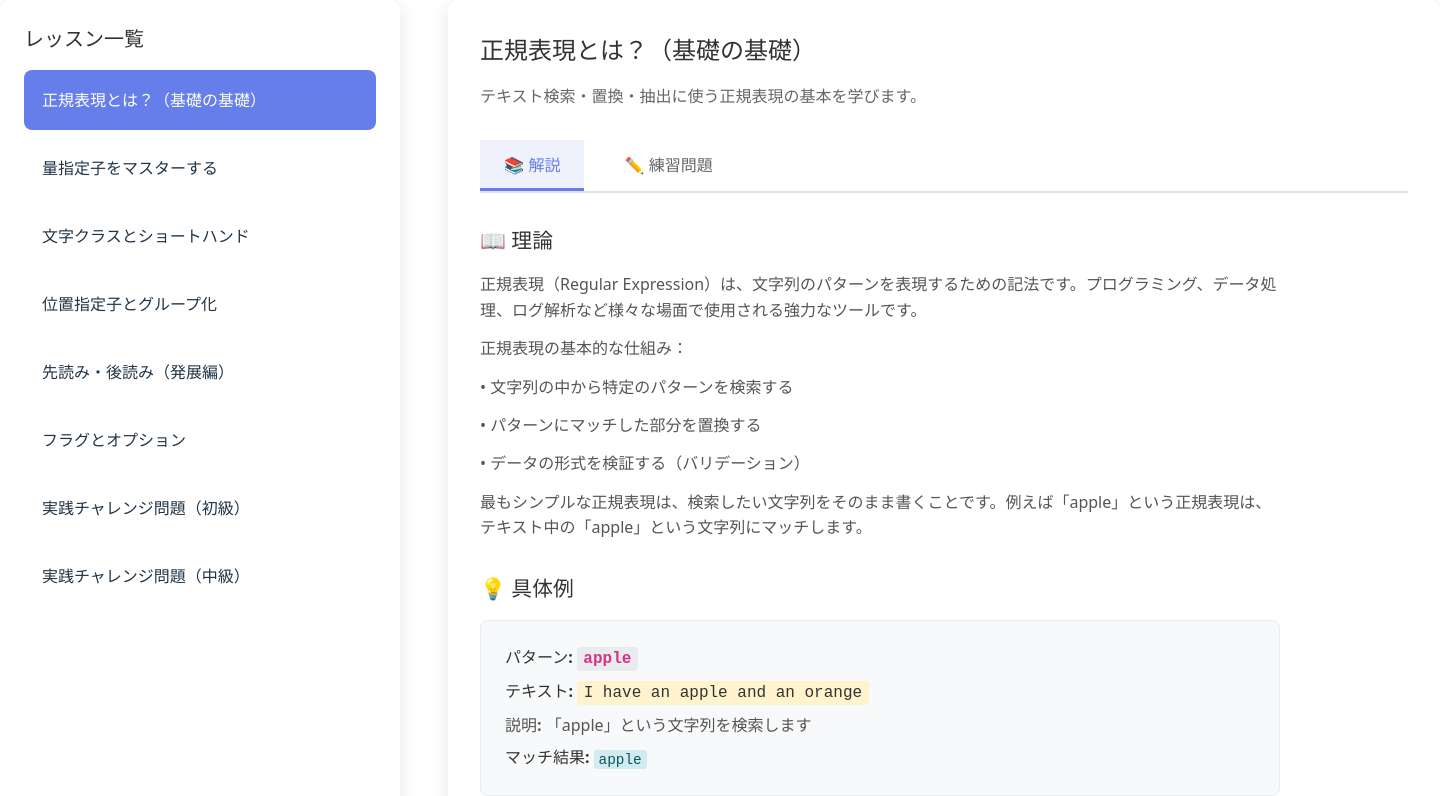
Test: LearningMode › レッスン切り替え › 異なるレッスンをクリックすると切り替わる
The width and height of the screenshot is (1440, 796).
Click the text "量指定子をマスターする".
click(130, 168)  # box [42,156,218,180]
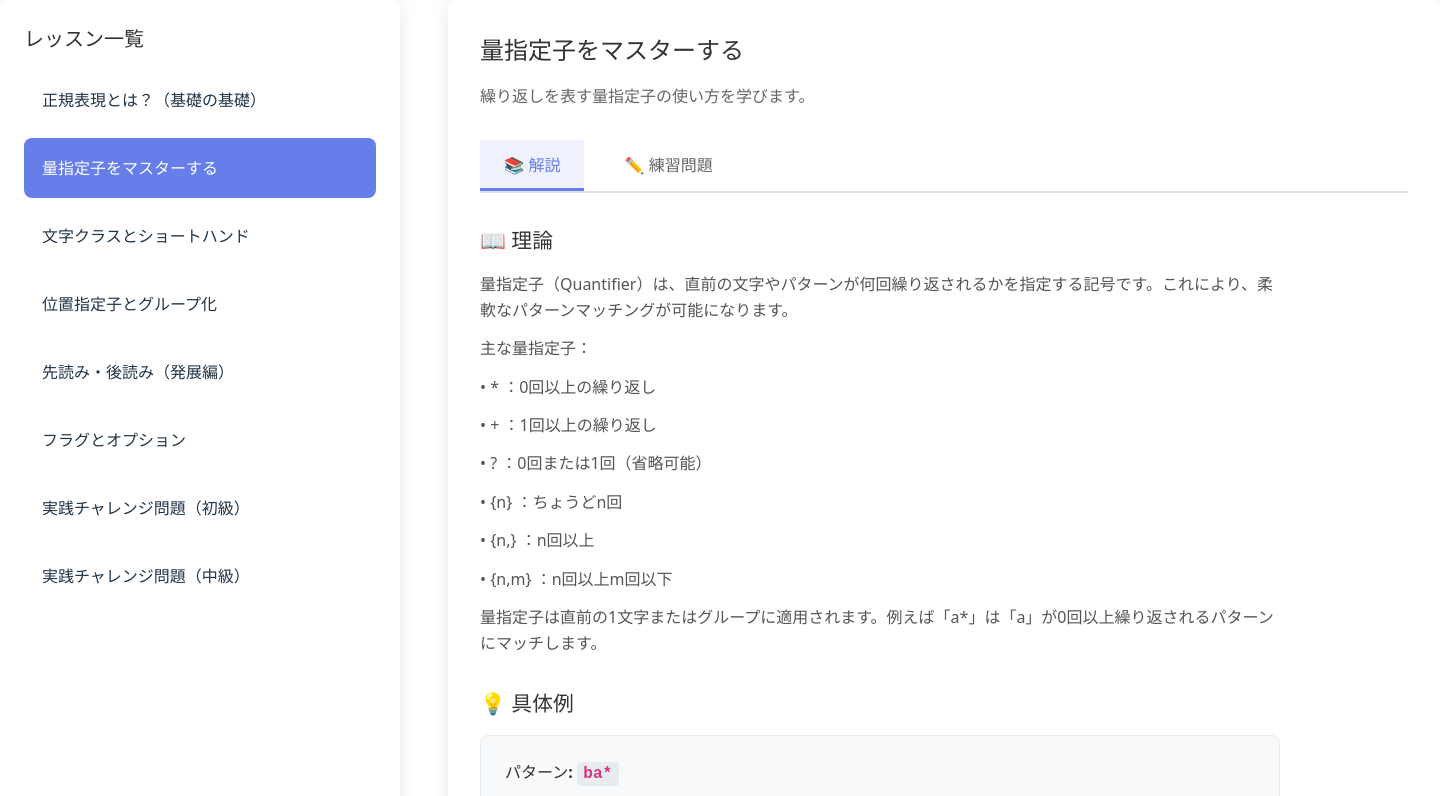
Now the heading "量指定子をマスターする" is shown, box [480,33,744,66]
Now the text "繰り返しを表す量指定子の使い方を学びます。" is shown, box [480,85,814,107]
